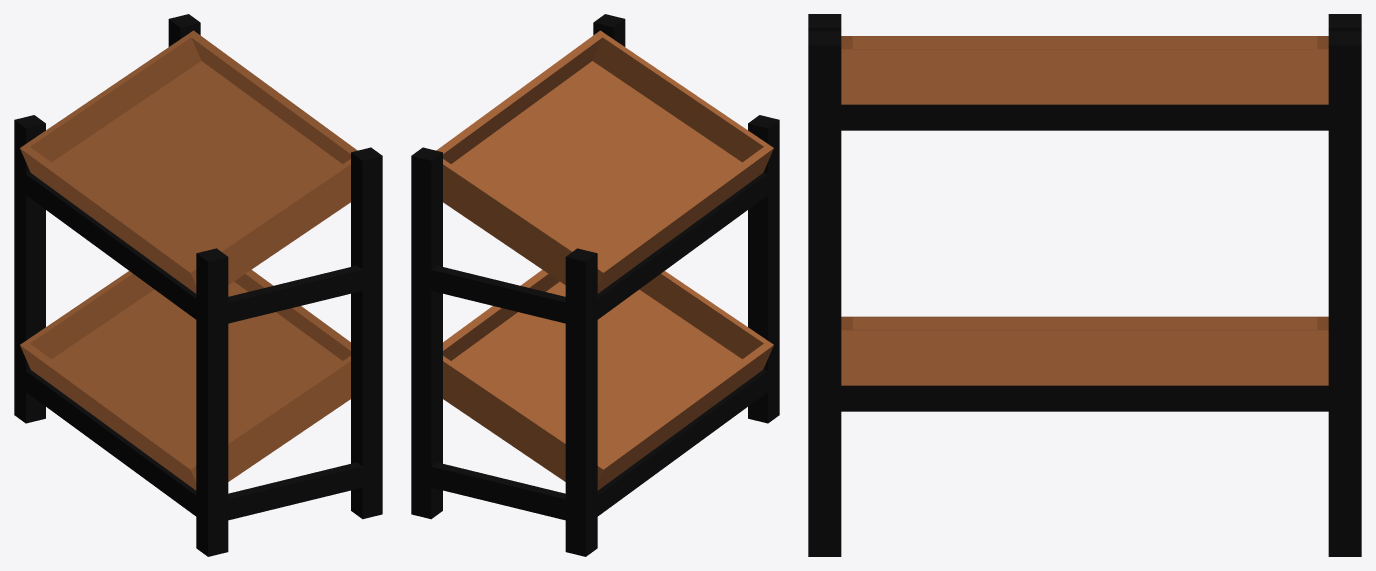
Rendered from FruitDisplay.fbx.
3 views of the same model, side by side, from view 1: azimuth 30°, elevation 25°; view 2: azimuth 150°, elevation 25°; view 3: azimuth 270°, elevation 25° (orthographic). The views are drawn at different scales.
Parts seen in each view (by area): view 1: VICTORY; view 2: VICTORY; view 3: VICTORY.
Boxes of the visible parts, left/top/right/bottom form: VICTORY: left=14, top=14, right=382, bottom=556; VICTORY: left=411, top=14, right=779, bottom=556; VICTORY: left=808, top=14, right=1361, bottom=556.
Bounding box in the file's own units: 941 × 1727 × 1693.
